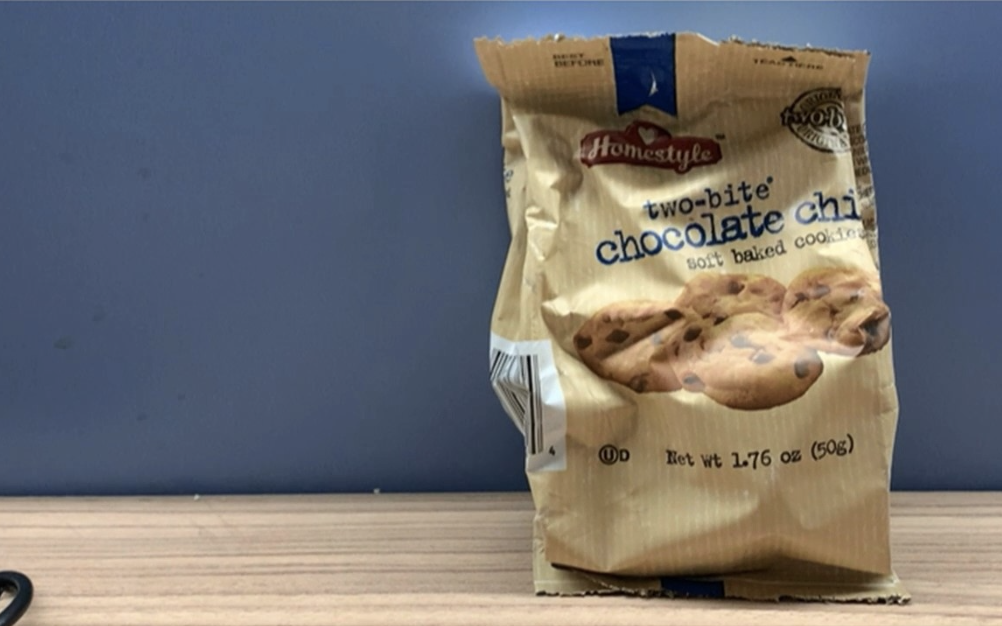cookies_50g: (541, 118, 872, 467)
